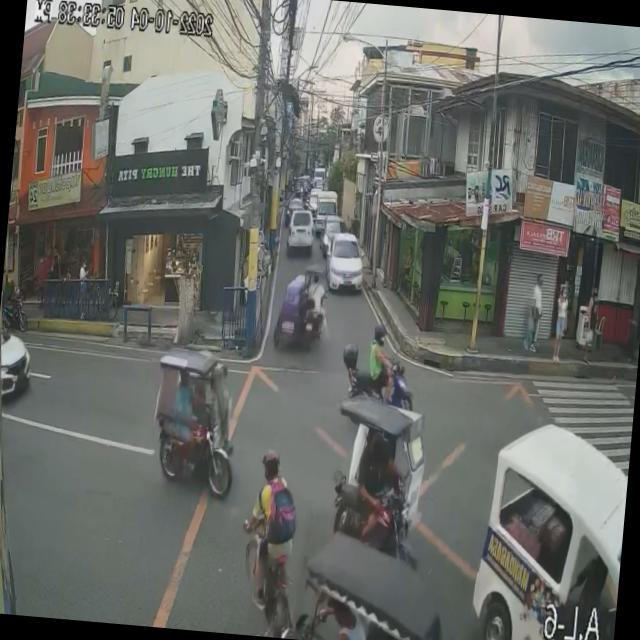full: (371, 320, 389, 348)
